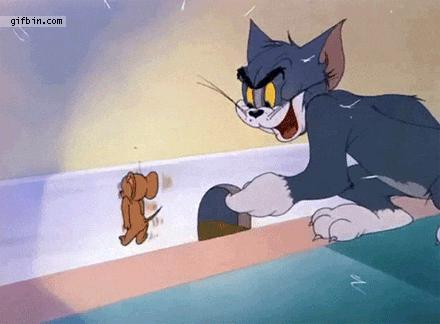jerry: (118, 170, 162, 245)
